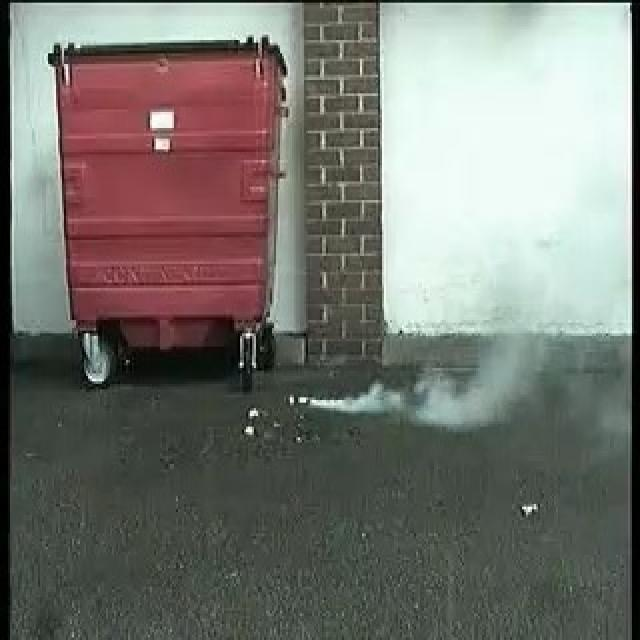smoke: (305, 343, 518, 431)
